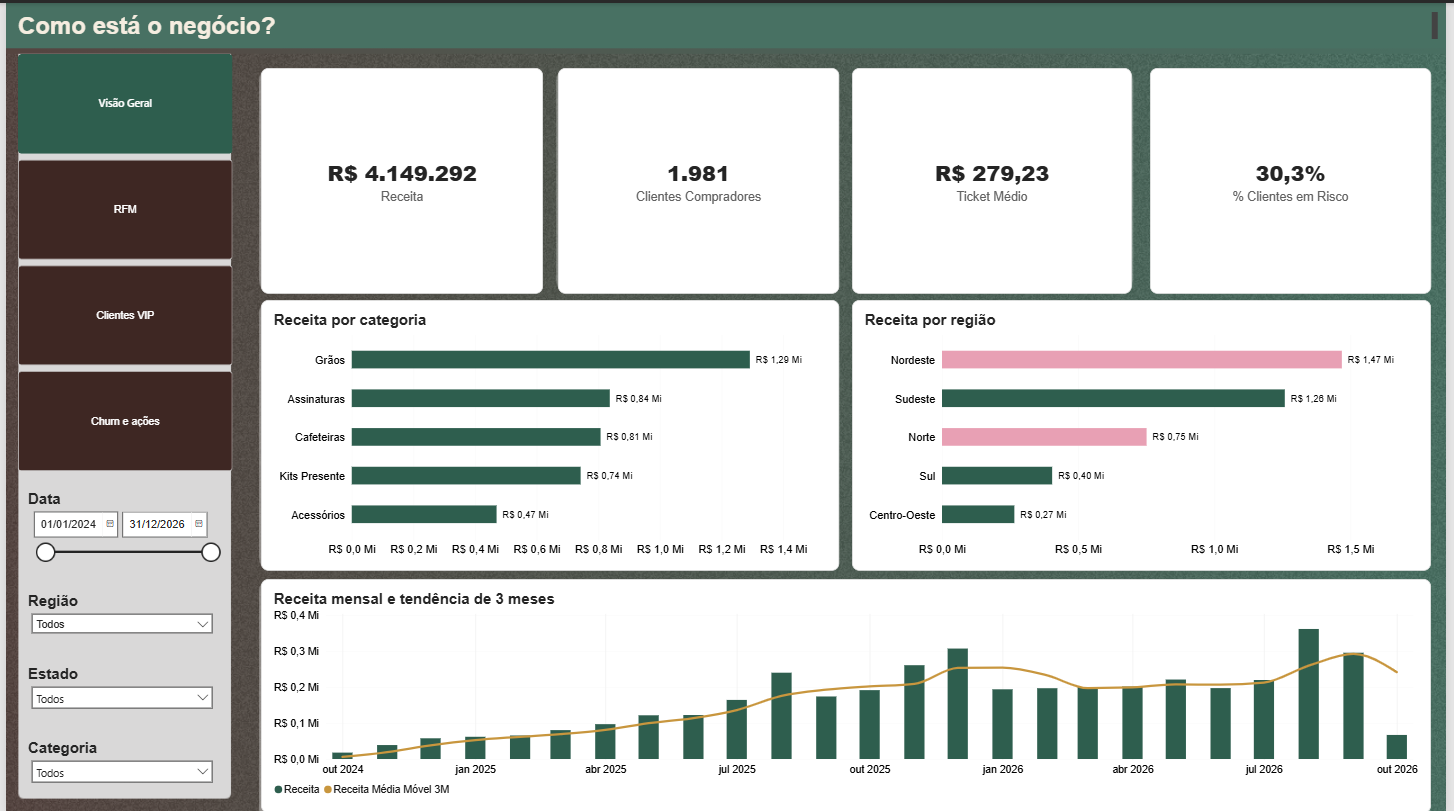

What the dashboard file says about the page in this screenshot:
{"tool":"powerbi","page":{"name":"Visão Geral","canvas":[1920,1080],"ordinal":0},"visuals":[{"type":"card","fields":{"Values":["Medidas.Receita"]},"box":[340,86.7,376,301.3],"z":0},{"type":"card","fields":{"Values":["Medidas.Clientes Compradores"]},"box":[736,86.7,374.7,301.3],"z":1000},{"type":"card","fields":{"Values":["Medidas.Ticket Médio"]},"box":[1128,86.7,373.3,301.3],"z":2000},{"type":"card","fields":{"Values":["Medidas.% Clientes em Risco"]},"box":[1525.3,86.7,374.7,301.3],"z":3000},{"type":"lineClusteredColumnComboChart","title":"Receita mensal e tendência de 3 meses","fields":{"Category":["dim_calendario.ano_mes.Variation.Hierarquia de datas.Ano"],"Y":["Medidas.Receita"],"Y2":["Medidas.Receita Média Móvel 3M"]},"box":[340,768,1560,312],"z":4000},{"type":"barChart","title":"Receita por região","fields":{"Category":["dim_clientes.regiao"],"Y":["Medidas.Receita"]},"box":[1128,396,772,361.3],"z":5000},{"type":"barChart","title":"Receita por categoria","fields":{"Category":["dim_produtos.categoria"],"Y":["Medidas.Receita"]},"box":[340,396,770.7,361.3],"z":6000},{"type":"slicer","title":"Data","fields":{"Values":["dim_calendario.data"]},"box":[29.3,649.3,260,118.7],"z":7000},{"type":"slicer","title":"Região","fields":{"Values":["dim_clientes.regiao"]},"box":[29.3,785.3,250.7,85.3],"z":8000},{"type":"slicer","title":"Estado","fields":{"Values":["dim_clientes.estado"]},"box":[29.3,882.7,250.7,85.3],"z":9000},{"type":"slicer","title":"Categoria","fields":{"Values":["dim_clientes.segmento"]},"box":[29.3,981.3,250.7,66.7],"z":10000},{"type":"pageNavigator","box":[16,68,286.7,556],"z":11000},{"type":"textbox","box":[16,12,1893.3,45.3],"z":12000}]}

Visuals, with their boxes in screenshot pixels (x1, y1, x2, y2), scaled from the page's 1920x1080 canvas onto the 1454x811 screenshot:
card - Medidas.Receita: bbox=(257, 65, 542, 291)
card - Medidas.Clientes Compradores: bbox=(557, 65, 841, 291)
card - Medidas.Ticket Médio: bbox=(854, 65, 1137, 291)
card - Medidas.% Clientes em Risco: bbox=(1155, 65, 1439, 291)
"Receita mensal e tendência de 3 meses" lineClusteredColumnComboChart: bbox=(257, 577, 1439, 810)
"Receita por região" barChart: bbox=(854, 297, 1439, 569)
"Receita por categoria" barChart: bbox=(257, 297, 841, 569)
"Data" slicer: bbox=(22, 488, 219, 577)
"Região" slicer: bbox=(22, 590, 212, 654)
"Estado" slicer: bbox=(22, 663, 212, 727)
"Categoria" slicer: bbox=(22, 737, 212, 787)
pageNavigator: bbox=(12, 51, 229, 469)
textbox: bbox=(12, 9, 1446, 43)
